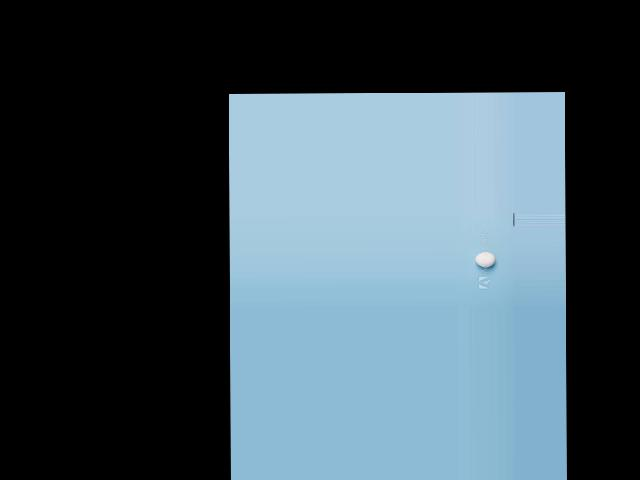egg: (476, 251, 495, 267)
